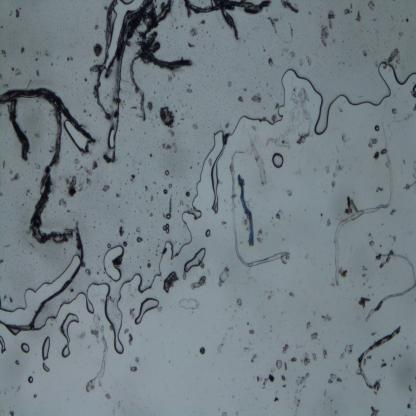Air bubble: (231, 58, 416, 139), (85, 270, 161, 354), (0, 254, 82, 324), (181, 127, 228, 220), (64, 121, 92, 154), (60, 315, 80, 359), (103, 244, 124, 282), (134, 298, 160, 326), (182, 247, 206, 274), (41, 336, 52, 361), (270, 152, 285, 170), (0, 335, 7, 356), (20, 342, 30, 354), (119, 0, 134, 7), (42, 362, 50, 373), (204, 229, 212, 238), (374, 124, 380, 133), (28, 375, 34, 384), (14, 359, 20, 366), (166, 213, 171, 220), (34, 393, 36, 398)
Background material: (280, 84, 316, 152), (88, 312, 107, 394), (264, 126, 295, 149), (291, 369, 308, 408), (162, 269, 179, 293), (188, 275, 209, 293), (161, 105, 175, 129), (217, 263, 231, 287), (343, 195, 359, 215), (65, 175, 78, 199), (320, 25, 331, 49), (91, 40, 104, 60), (179, 298, 200, 310), (158, 142, 178, 154), (326, 372, 344, 385), (386, 47, 401, 61), (333, 159, 344, 177), (74, 156, 86, 172), (378, 256, 390, 272), (338, 269, 351, 281), (320, 311, 333, 323), (10, 64, 22, 76), (368, 404, 380, 416), (162, 221, 171, 237), (359, 295, 370, 308), (344, 342, 354, 356), (10, 171, 21, 183), (251, 92, 262, 104), (302, 354, 312, 367), (276, 206, 284, 222), (372, 149, 388, 157), (374, 184, 385, 195), (355, 9, 363, 24), (102, 152, 112, 164), (57, 198, 69, 208), (166, 70, 176, 82), (118, 224, 126, 239), (281, 342, 289, 357), (340, 136, 349, 149), (198, 345, 207, 358), (257, 228, 264, 244), (188, 27, 198, 38), (266, 289, 276, 300), (311, 350, 320, 362), (327, 10, 336, 22), (134, 352, 142, 365), (4, 384, 12, 397), (90, 159, 98, 172), (395, 26, 403, 39), (82, 108, 92, 118), (342, 7, 352, 17), (381, 357, 388, 371), (13, 384, 21, 396), (76, 180, 84, 192), (128, 307, 135, 320), (250, 352, 257, 365), (217, 343, 224, 356), (168, 198, 173, 216), (369, 138, 378, 148), (165, 128, 175, 137), (292, 167, 302, 176), (411, 82, 416, 100), (102, 184, 110, 195), (290, 354, 298, 365), (127, 334, 134, 346), (267, 56, 274, 68), (262, 376, 268, 390), (310, 332, 319, 341), (241, 344, 251, 352), (24, 189, 34, 197), (287, 290, 297, 298), (275, 360, 282, 371), (146, 102, 154, 111), (248, 327, 256, 336), (107, 295, 116, 303), (26, 76, 32, 88), (186, 41, 195, 49), (0, 49, 8, 58), (236, 94, 244, 103), (130, 364, 139, 372), (367, 0, 374, 10), (1, 158, 6, 172), (237, 296, 242, 309), (103, 392, 111, 400), (163, 168, 171, 176), (32, 132, 40, 140), (388, 233, 396, 241), (278, 374, 286, 382), (46, 146, 54, 154), (322, 164, 329, 173), (136, 236, 145, 243), (268, 374, 275, 383), (129, 174, 136, 183), (79, 331, 86, 340), (120, 100, 126, 110), (322, 387, 328, 397), (349, 0, 354, 12), (271, 112, 277, 122), (15, 8, 20, 20), (322, 349, 328, 359), (66, 56, 76, 62), (98, 297, 105, 305), (324, 219, 332, 226), (273, 395, 280, 403), (19, 46, 26, 54), (135, 226, 142, 234), (192, 122, 199, 130), (130, 104, 138, 111), (28, 240, 35, 248), (307, 55, 312, 66), (283, 360, 288, 371), (306, 321, 312, 330), (406, 401, 412, 410), (86, 167, 92, 176), (182, 271, 188, 280), (408, 384, 414, 393), (252, 124, 258, 133), (119, 218, 128, 224), (286, 190, 293, 197), (156, 246, 160, 258), (404, 344, 412, 350), (84, 266, 90, 274), (361, 48, 367, 56), (339, 352, 345, 360), (390, 108, 398, 114), (242, 220, 248, 228), (198, 20, 206, 26), (1, 83, 9, 89), (8, 10, 14, 18), (34, 69, 40, 77), (86, 176, 92, 184), (221, 219, 226, 228), (373, 59, 378, 68), (105, 242, 111, 249), (178, 199, 184, 206), (256, 375, 262, 382), (184, 191, 190, 198), (43, 50, 49, 57), (36, 50, 42, 57), (370, 241, 376, 248), (390, 209, 396, 216), (318, 211, 324, 218), (283, 47, 289, 54), (186, 88, 192, 95), (208, 268, 212, 278), (208, 158, 212, 168), (124, 326, 129, 334), (225, 121, 230, 129), (8, 410, 14, 416), (306, 10, 312, 16), (404, 18, 410, 24), (66, 208, 72, 214), (114, 192, 120, 198), (82, 76, 88, 82), (4, 243, 11, 248), (123, 240, 128, 247), (2, 294, 7, 301), (149, 194, 154, 201), (234, 409, 239, 416), (163, 189, 168, 196), (221, 411, 228, 416), (0, 408, 4, 416), (64, 247, 68, 255), (300, 58, 304, 66), (50, 60, 54, 68), (332, 180, 335, 190), (19, 201, 24, 207), (70, 287, 76, 292), (366, 355, 372, 360), (274, 103, 280, 108), (148, 153, 154, 158), (35, 164, 40, 170), (144, 183, 148, 190), (292, 51, 296, 58), (390, 14, 394, 21), (129, 127, 134, 132), (34, 56, 39, 61), (226, 81, 231, 86), (398, 353, 403, 358), (10, 295, 13, 303), (147, 262, 151, 268), (162, 212, 166, 218), (152, 90, 156, 96), (138, 264, 142, 270), (0, 191, 4, 197), (96, 270, 100, 276), (95, 24, 99, 30), (169, 183, 173, 189), (152, 180, 156, 186), (362, 266, 366, 272), (0, 258, 3, 265), (0, 72, 3, 79), (282, 384, 286, 389), (362, 274, 367, 278), (262, 47, 266, 52), (244, 87, 248, 92), (372, 332, 376, 337), (104, 6, 108, 11), (368, 233, 372, 238), (92, 58, 96, 63), (392, 355, 395, 361), (266, 82, 269, 88), (243, 38, 246, 44), (223, 336, 226, 342), (150, 212, 153, 218), (174, 26, 178, 30), (126, 232, 130, 236), (180, 24, 184, 28), (364, 358, 366, 366), (157, 243, 160, 248), (335, 409, 338, 414), (189, 164, 192, 169), (0, 25, 3, 30), (197, 161, 200, 165), (155, 115, 158, 119), (97, 255, 101, 258), (330, 398, 333, 402), (246, 322, 249, 326), (180, 118, 184, 121), (372, 19, 376, 22), (189, 82, 191, 87), (175, 192, 178, 195), (155, 192, 158, 195), (197, 151, 200, 154), (177, 209, 179, 213), (176, 108, 178, 112), (84, 215, 86, 218), (118, 205, 120, 208), (166, 96, 168, 99), (24, 130, 26, 133), (148, 249, 150, 252), (137, 172, 140, 174), (171, 194, 173, 196), (99, 223, 101, 225), (178, 123, 180, 125), (93, 226, 95, 228), (126, 201, 128, 203), (125, 183, 127, 185), (139, 197, 142, 198), (127, 164, 128, 166), (138, 168, 139, 170)
Cellulose filter fibre: (332, 108, 394, 285), (0, 221, 84, 328), (230, 150, 290, 266), (28, 109, 76, 244), (0, 84, 97, 145), (127, 41, 192, 121), (365, 236, 416, 324), (104, 2, 163, 75), (356, 326, 404, 390), (93, 0, 118, 120), (10, 101, 30, 162), (182, 0, 271, 13), (248, 136, 267, 186), (267, 16, 293, 46), (220, 7, 240, 42), (401, 161, 416, 191), (280, 0, 302, 13)
Cotton: (237, 174, 256, 248)
